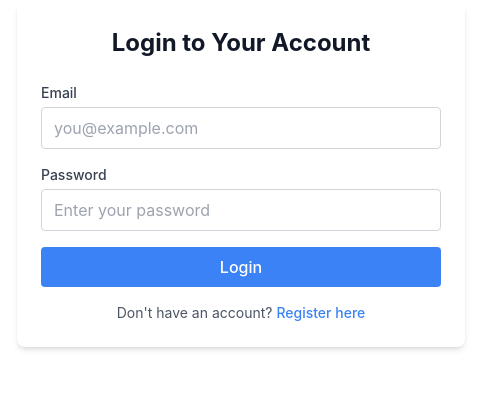
Scenario: LoginForm › validates password minimum length
In the password field labelled "Password": (241, 210) [41,189,441,231], type "short"
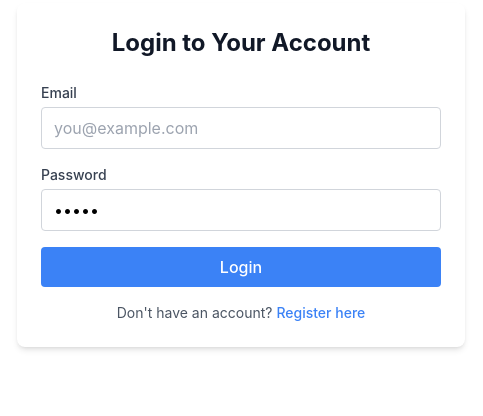
Click the button "Login": (241, 267) [41,247,441,287]
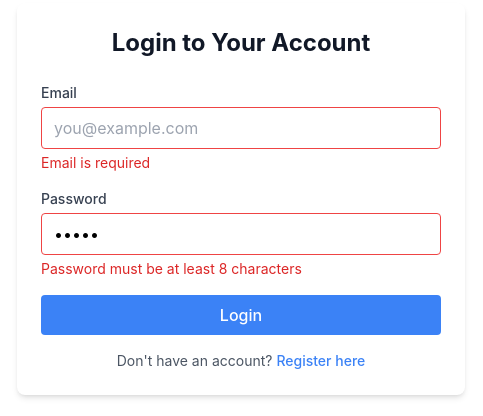
Check: the text "Password must be at least 8 characters" is shown, box [41,260,302,277]
